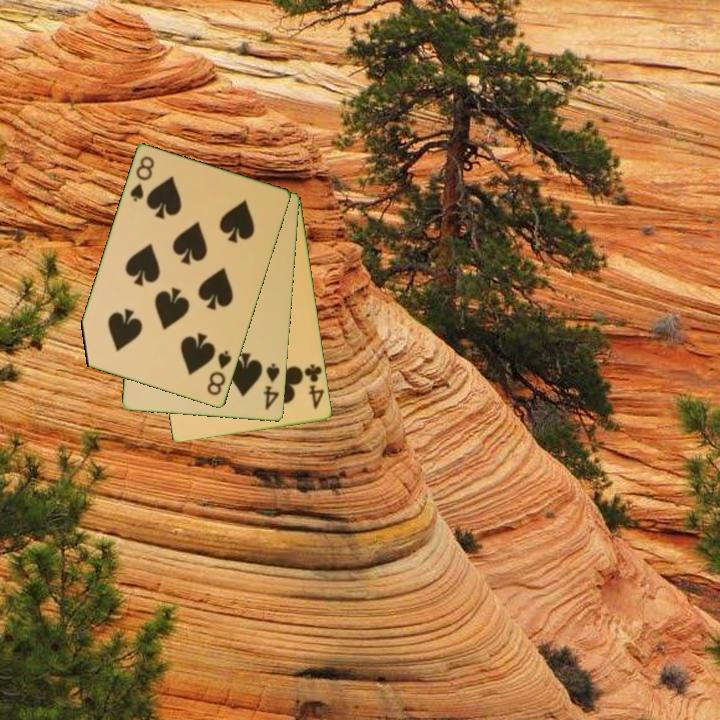4c: (301, 361, 327, 412)
4s: (260, 360, 283, 413)
8s: (204, 347, 235, 399), (127, 153, 157, 205)
